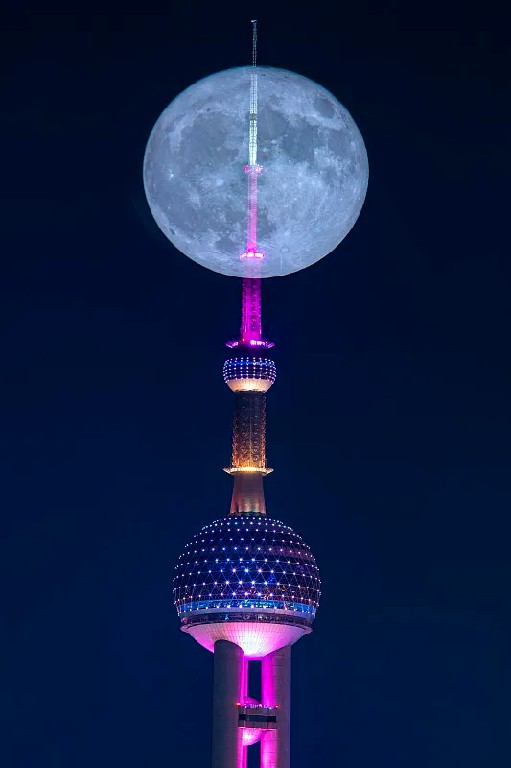Oriental: (170, 17, 321, 768)
